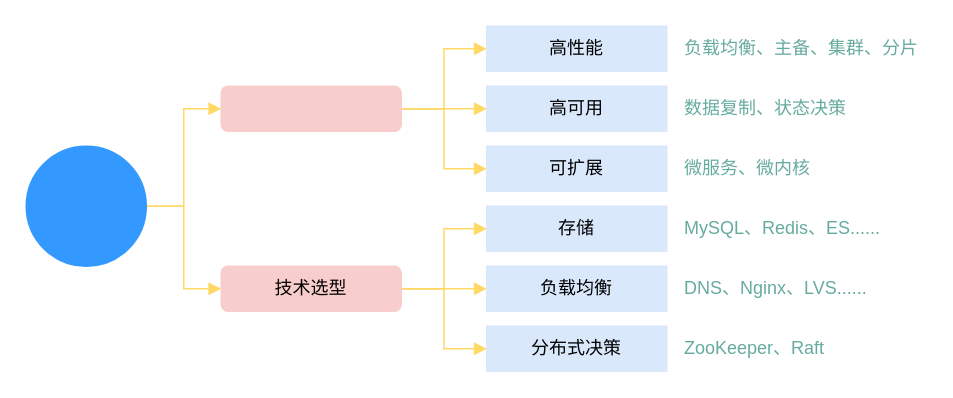
Some shapes in this 953 by 398 pixel diagram are drawn without their labels. The centre of each missing label's shape, as x and y in pixels:
"备选 架构" goes at (x=85, y=205).
"架构模式" goes at (x=310, y=108).
